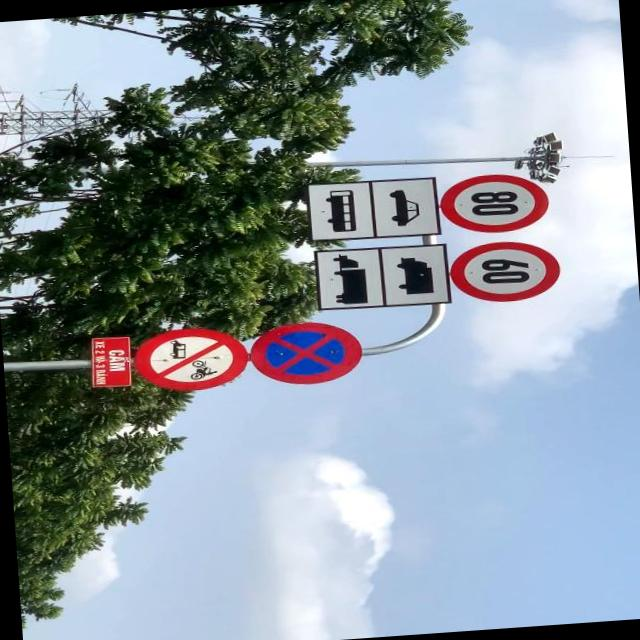P-104: (132, 324, 249, 394)
P-127: (449, 236, 564, 304), (436, 170, 550, 236)
P-130: (250, 318, 362, 388)
